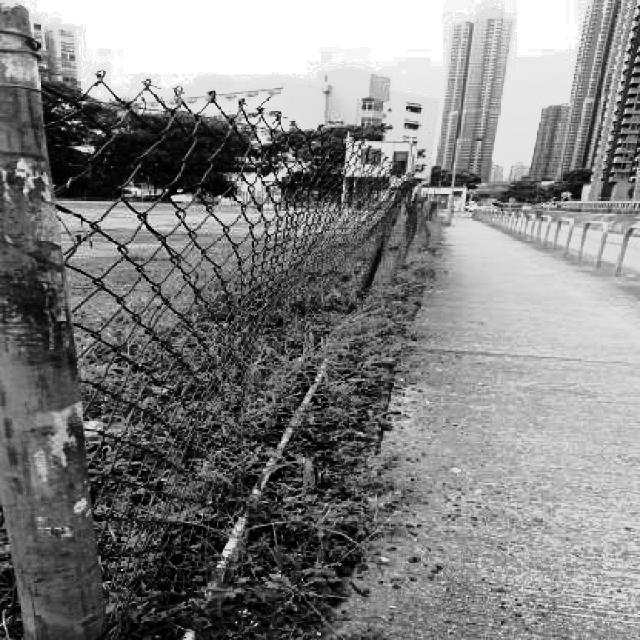anomaly-fence: (232, 92, 463, 510)
